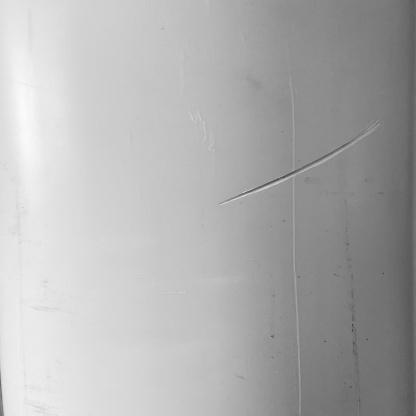sunshang: (198, 120, 388, 217)
